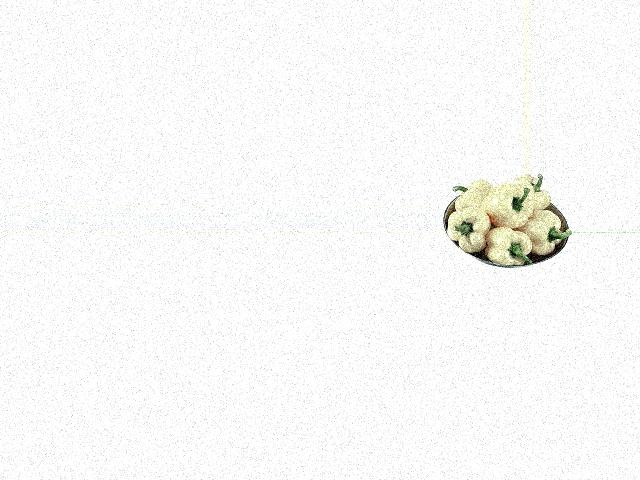bell_pepper: (513, 174, 555, 214)
